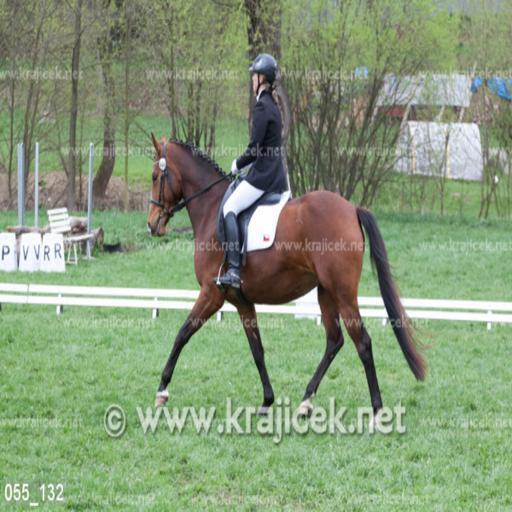horse: (146, 128, 430, 414)
